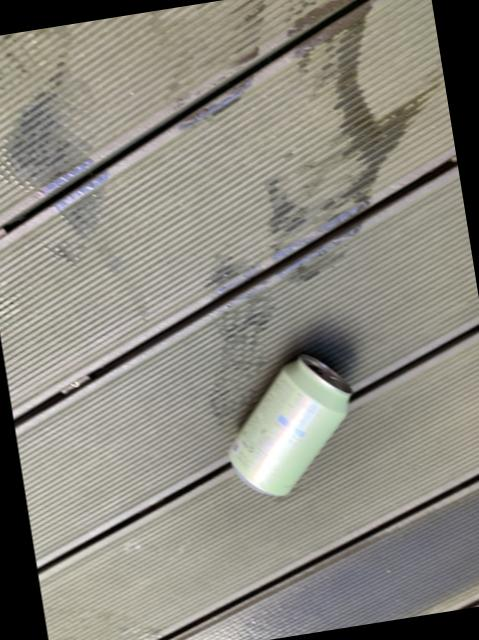metal: (228, 355, 349, 495)
